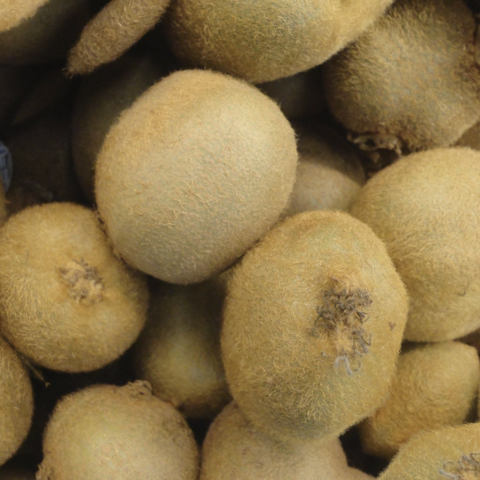kiwi: (20, 15, 353, 347), (146, 161, 476, 480), (0, 156, 194, 408), (304, 104, 480, 377)
